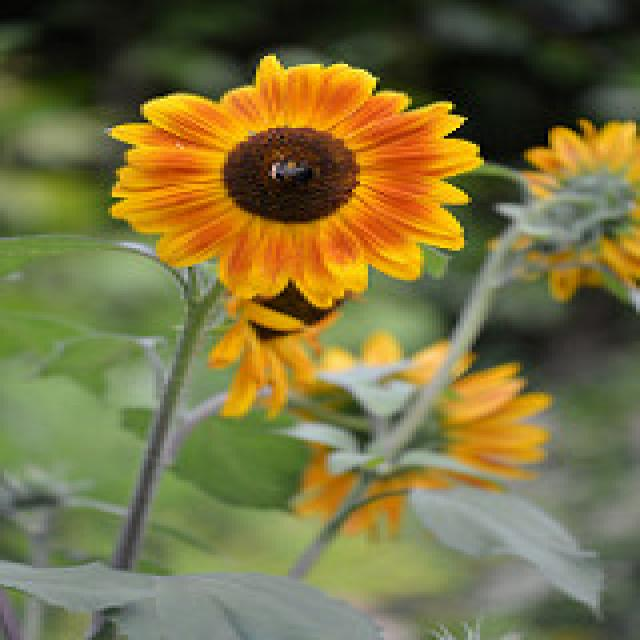sunflower: (99, 58, 461, 301)
